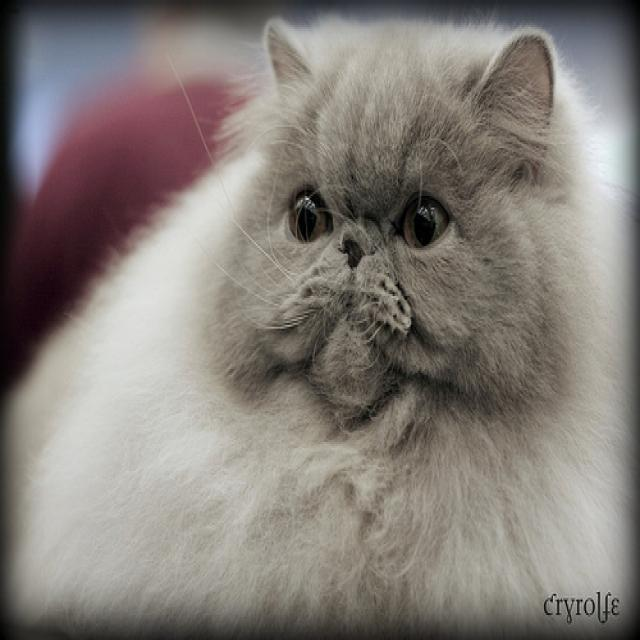Persian: (235, 10, 566, 433)
